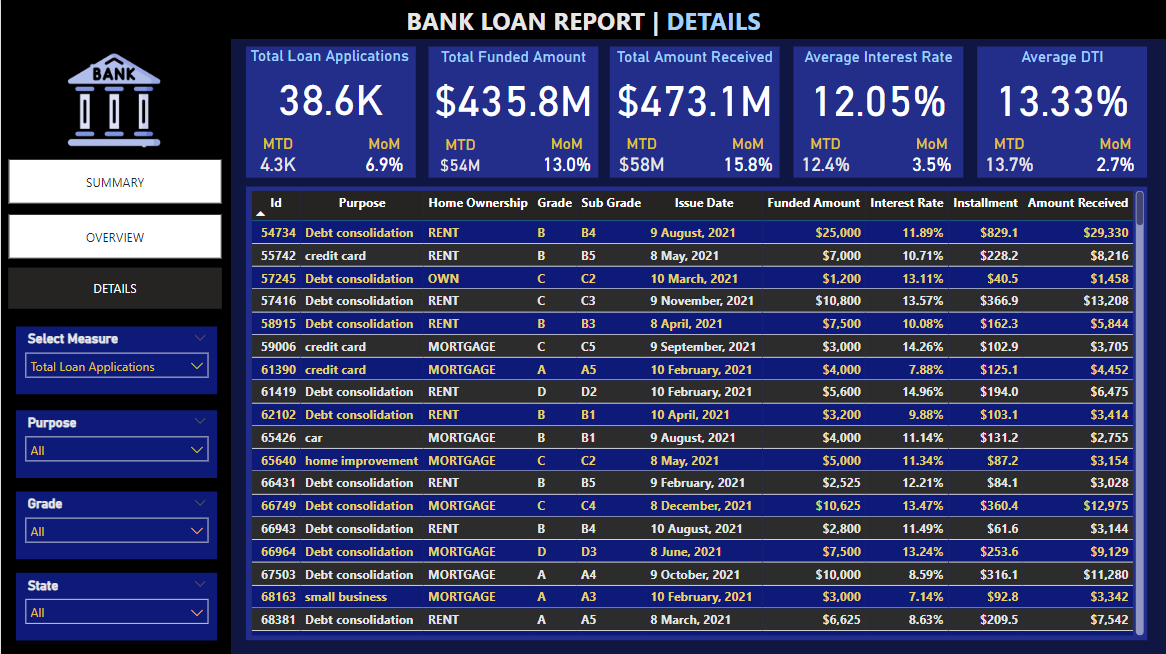

What the dashboard file says about the page in this screenshot:
{"tool":"powerbi","page":{"name":"DETAILS","canvas":[1280,720],"ordinal":2},"visuals":[{"type":"shape","box":[0,0,1280.3,43.9],"z":0},{"type":"shape","box":[0,43.9,252.5,676.5],"z":1000},{"type":"textbox","box":[403.4,0,472,54.9],"z":2000},{"type":"shape","box":[269.5,52.7,186.6,144.1],"z":3000},{"type":"shape","box":[469.8,52.7,186.6,144.1],"z":4000},{"type":"shape","box":[668.8,52.7,186.6,144.1],"z":5000},{"type":"shape","box":[870.5,52.7,186.6,144.1],"z":6000},{"type":"shape","box":[1072.3,52.7,186.6,144.1],"z":7000},{"type":"card","title":"Total Loan Applications","fields":{"Values":["CountNonNull(bank_loan_data.id)"]},"box":[269.5,52.7,186.6,87.8],"z":8000},{"type":"card","title":"Total Amount Received ","fields":{"Values":["Sum(bank_loan_data.total_payment)"]},"box":[668.8,54.1,186.6,86.4],"z":9000},{"type":"card","title":"Average Interest Rate","fields":{"Values":["Avg(bank_loan_data.int_rate)"]},"box":[870.5,54.1,186.6,86.4],"z":10000},{"type":"card","title":"Average DTI","fields":{"Values":["Avg(bank_loan_data.dti)"]},"box":[1072.3,54.1,186.6,86.4],"z":11000},{"type":"card","title":"MTD","fields":{"Values":["bank_loan_data.MTD Loan Applications"]},"box":[269.5,148.7,70,48],"z":12000},{"type":"card","title":"MoM","fields":{"Values":["bank_loan_data.MoM Loan Applications"]},"box":[386.1,148.7,70,48],"z":13000},{"type":"card","title":"Total Funded Amount","fields":{"Values":["Sum(bank_loan_data.loan_amount)"]},"box":[469.8,54.1,186.6,86.4],"z":14000},{"type":"card","title":"MTD","fields":{"Values":["bank_loan_data.MTD Funded Amount"]},"box":[469.8,150.1,70,48],"z":15000},{"type":"card","title":"MTD","fields":{"Values":["bank_loan_data.MTD Amount Received"]},"box":[668.8,148.7,70,48],"z":16000},{"type":"card","title":"MTD","fields":{"Values":["bank_loan_data.MTD Avg Interest Rate"]},"box":[870.5,148.7,70,48],"z":17000},{"type":"card","title":"MTD","fields":{"Values":["bank_loan_data.MTD Average DTI"]},"box":[1072.3,148.7,70,48],"z":18000},{"type":"card","title":"MoM","fields":{"Values":["bank_loan_data.MoM Total Funded Amount"]},"box":[586.5,148.7,70,48],"z":19000},{"type":"card","title":"MoM","fields":{"Values":["bank_loan_data.MoM Amount Received"]},"box":[785.5,148.7,70,48],"z":20000},{"type":"card","title":"MoM","fields":{"Values":["bank_loan_data.MoM Average Interest Rate"]},"box":[987.2,148.7,70,48],"z":21000},{"type":"card","title":"MoM","fields":{"Values":["bank_loan_data.MoM Average DTI"]},"box":[1188.9,148.7,70,48],"z":22000},{"type":"slicer","fields":{"Values":["bank_loan_data.address_state"]},"box":[16.5,630.4,220.9,74.1],"z":23000},{"type":"slicer","fields":{"Values":["bank_loan_data.grade"]},"box":[16.5,541.2,220.9,74.1],"z":24000},{"type":"slicer","fields":{"Values":["bank_loan_data.purpose"]},"box":[16.5,452,220.9,74.1],"z":25000},{"type":"shape","box":[269,205.8,989.4,498.1],"z":28000},{"type":"tableEx","fields":{"Values":["bank_loan_data.id","bank_loan_data.purpose","bank_loan_data.home_ownership","bank_loan_data.grade","bank_loan_data.sub_grade","bank_loan_data.issue_date","Sum(bank_loan_data.loan_amount)","Sum(bank_loan_data.int_rate)","Sum(bank_loan_data.installment)","Sum(bank_loan_data.total_payment)"]},"box":[269,205.8,990.7,498.1],"z":29000},{"type":"slicer","fields":{"Values":["Select Measure.Select Measure"]},"box":[16.5,359.5,220.9,74.1],"z":30000},{"type":"pageNavigator","box":[7.7,175.4,234.6,49.4],"z":31000},{"type":"pageNavigator","box":[7.7,235.7,234.6,49.4],"z":32000},{"type":"pageNavigator","box":[7.7,294.8,234.6,45.3],"z":33000},{"type":"image","box":[65.9,52.1,116.6,116.6],"z":33001}]}

Visuals, with their boxes in screenshot pixels (x1, y1, x2, y2), scaled from the page's 1280x720 canvas onto the 1166x654 screenshot:
shape: [0,0,1165,40]
shape: [0,40,230,653]
textbox: [367,0,797,50]
shape: [245,48,415,179]
shape: [428,48,598,179]
shape: [609,48,779,179]
shape: [793,48,963,179]
shape: [977,48,1147,179]
"Total Loan Applications" card: [245,48,415,128]
"Total Amount Received " card: [609,49,779,128]
"Average Interest Rate" card: [793,49,963,128]
"Average DTI" card: [977,49,1147,128]
"MTD" card: [245,135,309,179]
"MoM" card: [352,135,415,179]
"Total Funded Amount" card: [428,49,598,128]
"MTD" card: [428,136,492,180]
"MTD" card: [609,135,673,179]
"MTD" card: [793,135,857,179]
"MTD" card: [977,135,1041,179]
"MoM" card: [534,135,598,179]
"MoM" card: [716,135,779,179]
"MoM" card: [899,135,963,179]
"MoM" card: [1083,135,1147,179]
slicer - bank_loan_data.address_state: [15,573,216,640]
slicer - bank_loan_data.grade: [15,492,216,559]
slicer - bank_loan_data.purpose: [15,411,216,478]
shape: [245,187,1146,639]
tableEx - bank_loan_data.id x bank_loan_data.purpose: [245,187,1148,639]
slicer - Select Measure.Select Measure: [15,327,216,394]
pageNavigator: [7,159,221,204]
pageNavigator: [7,214,221,259]
pageNavigator: [7,268,221,309]
image: [60,47,166,153]
